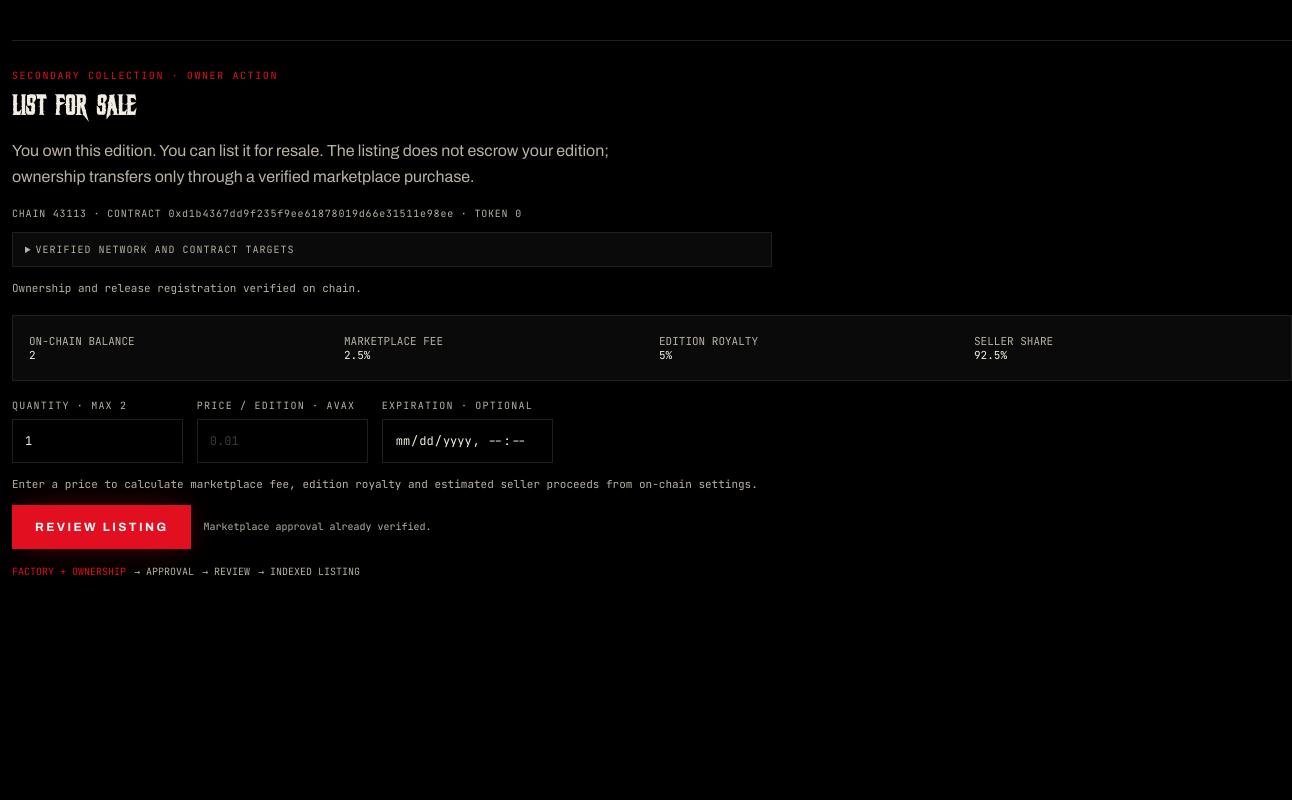
Test: Genesis listing on the legacy marketplace: the seller's minimum payout › refuses a price so low that no protective minimum exists, before anything can be sent
Step 1. Type "0.000000000000000001" into the field labelled "PRICE / EDITION · AVAX" → (282, 441), box [197,419,368,463]
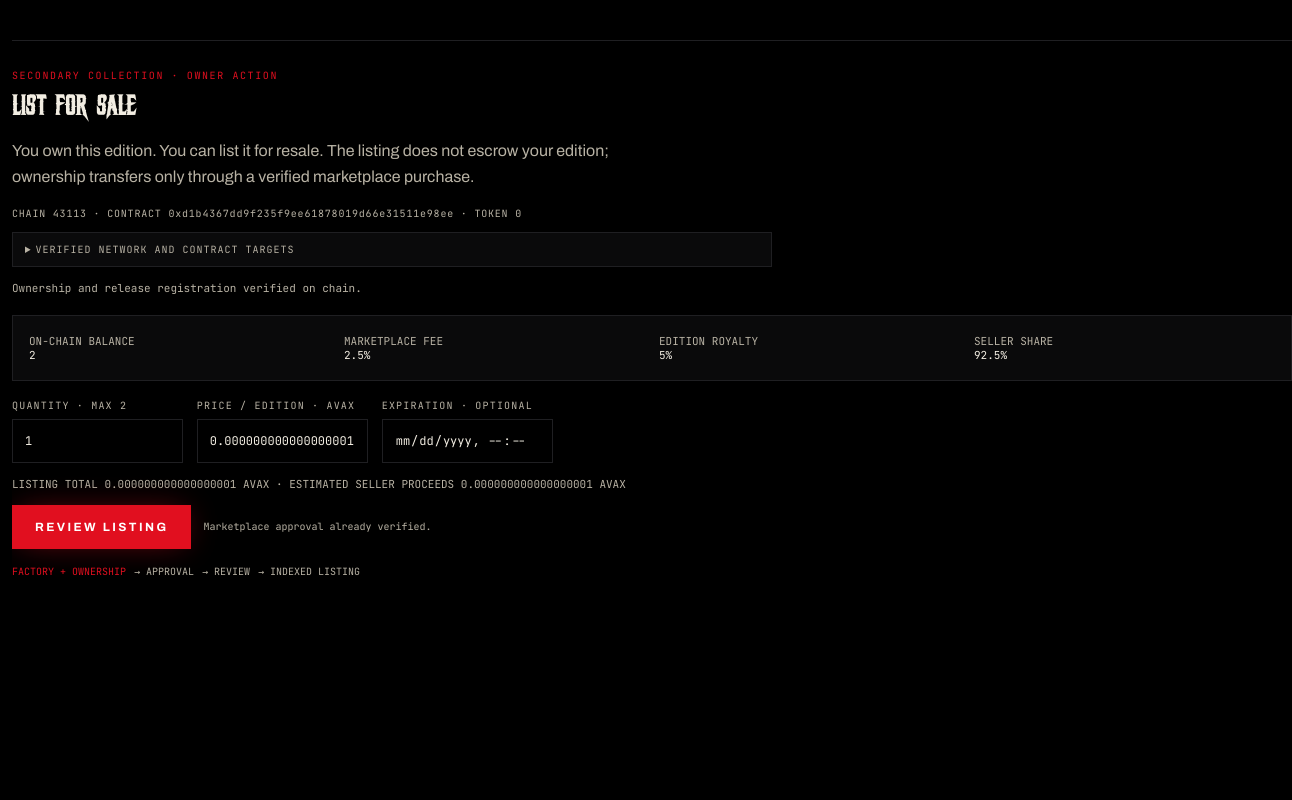
Step 2. Click the button "REVIEW LISTING" → (102, 527), box [12,505,192,549]
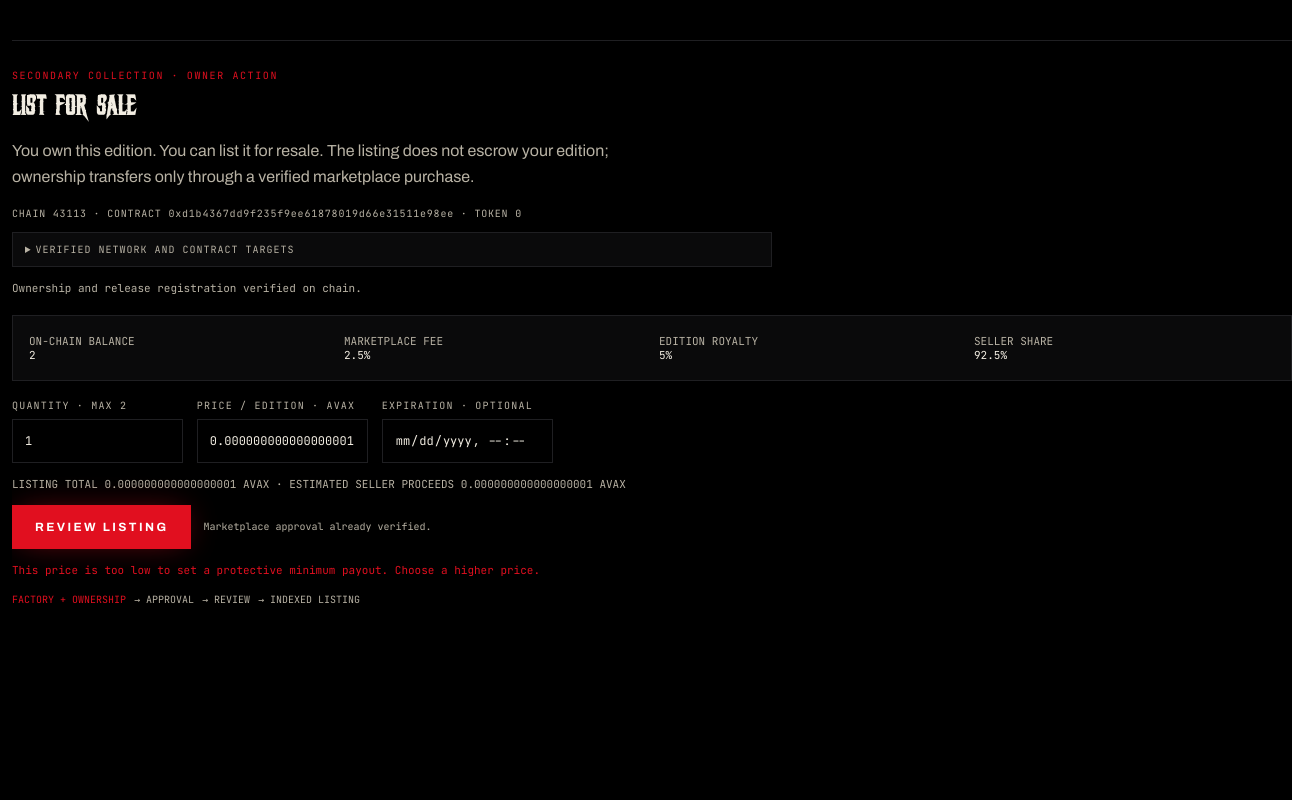
Now the text "too low to set a protective minimum payout" is shown, box [12,563,540,577]
